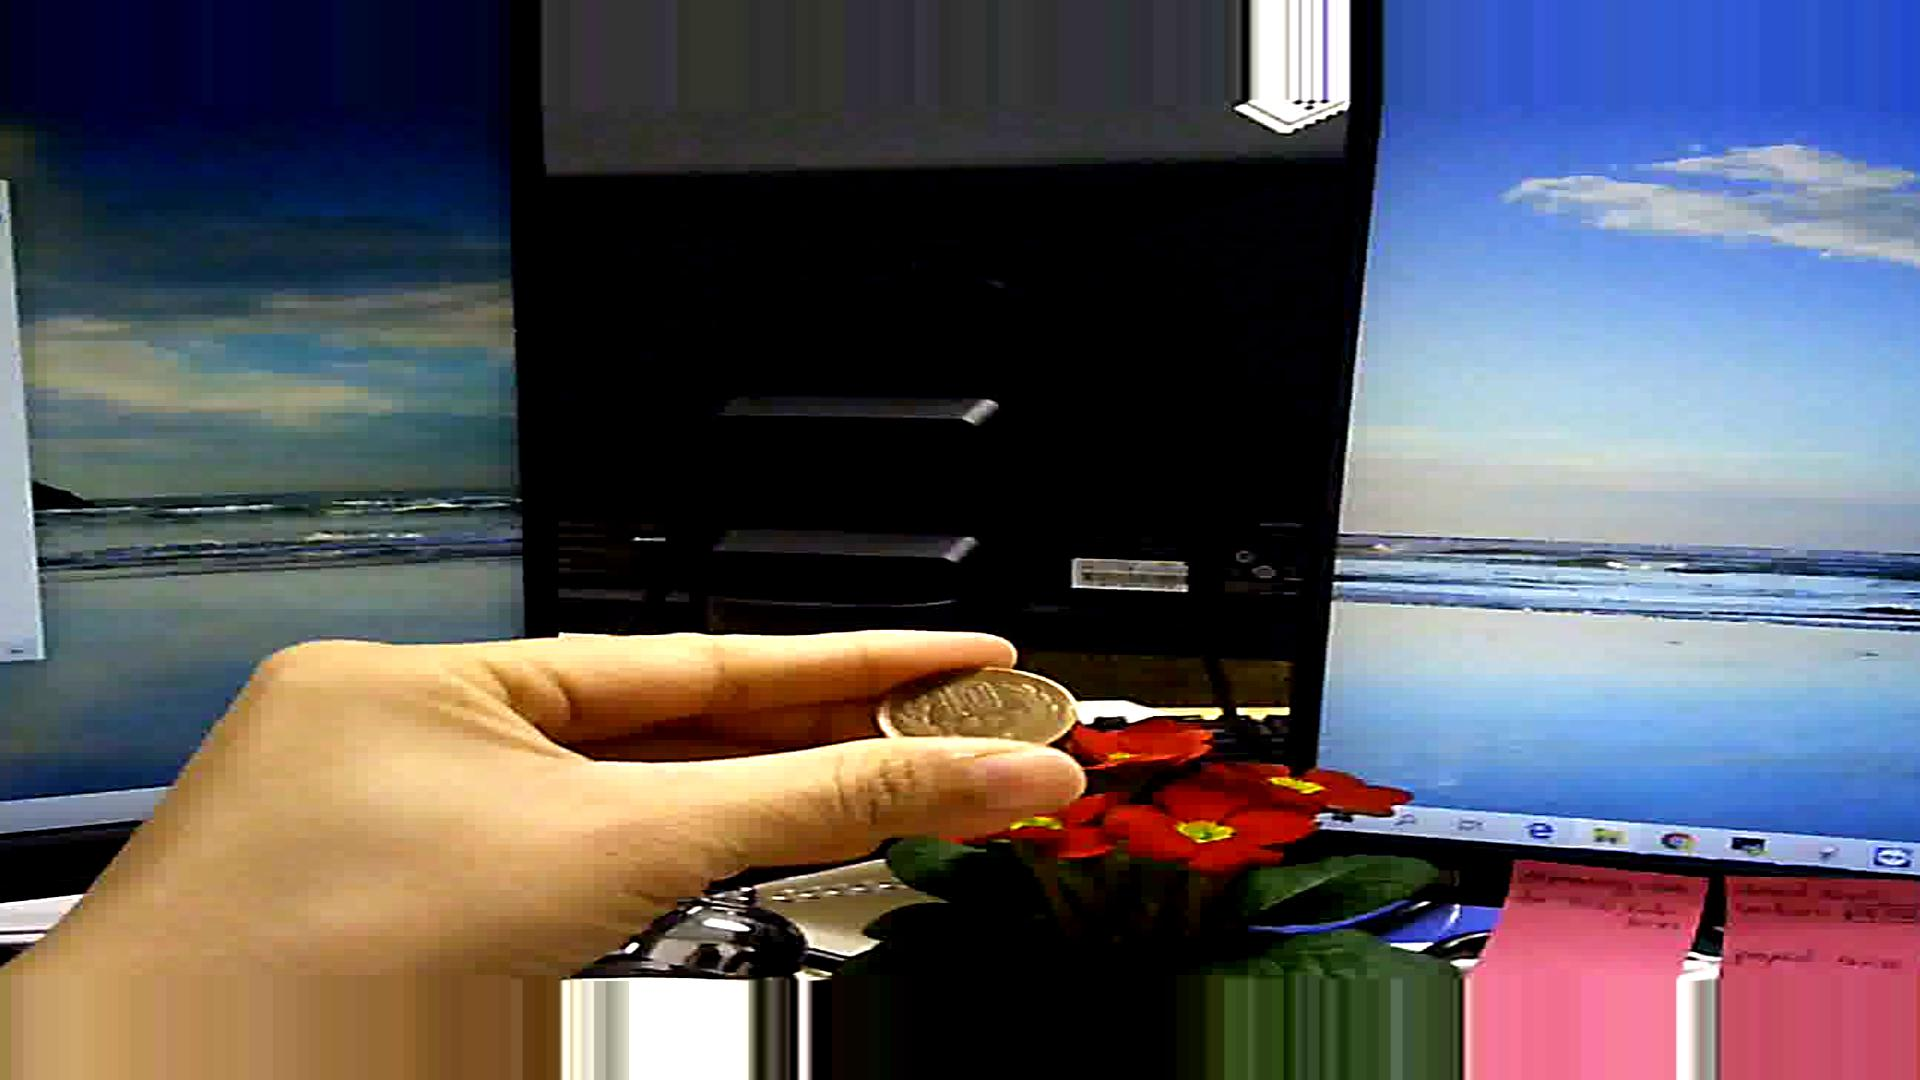10 Yen: (876, 647, 1079, 754)
